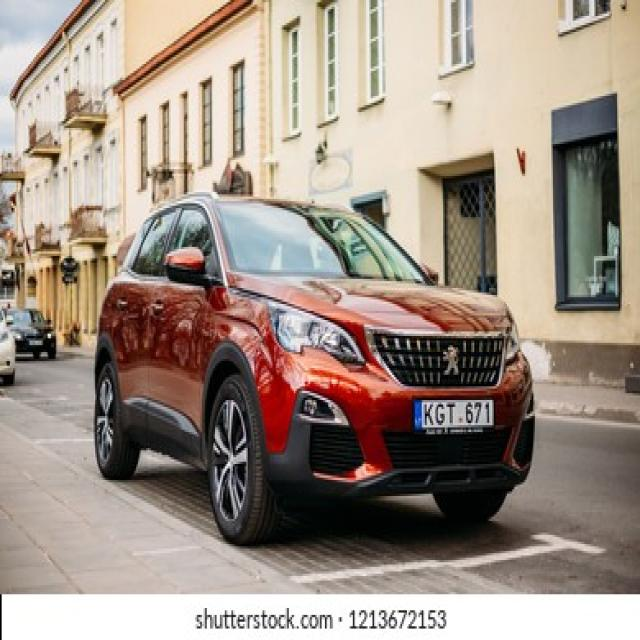pegout: (443, 343, 460, 378)
